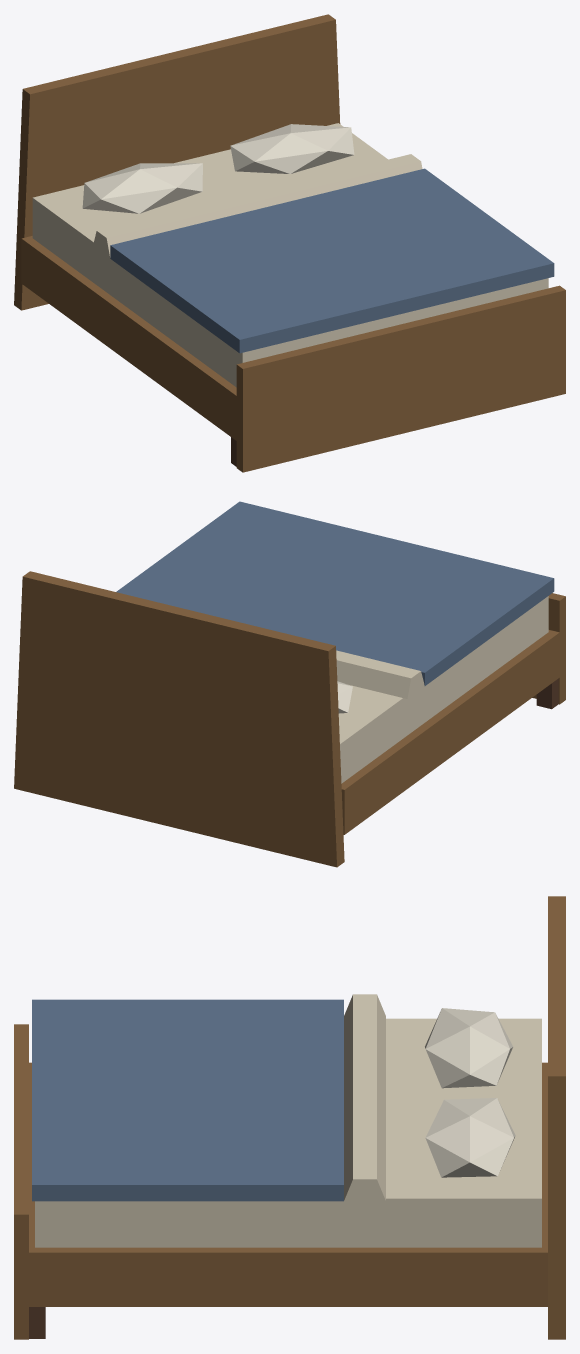
The model's file is bed.glb.
3 views of the same model, one above another, from view 1: azimuth 30°, elevation 25°; view 2: azimuth 150°, elevation 25°; view 3: azimuth 270°, elevation 25° (orthographic). The views are drawn at different scales.
Parts seen in each view (by area): view 1: bed; view 2: bed; view 3: bed.
Boxes of the visible parts, x1,y1,x2,y2 form: bed: (14, 14, 565, 472); bed: (14, 501, 565, 867); bed: (14, 896, 565, 1339).
Bounding box in the file's own units: 1.5 × 0.95 × 1.84.
